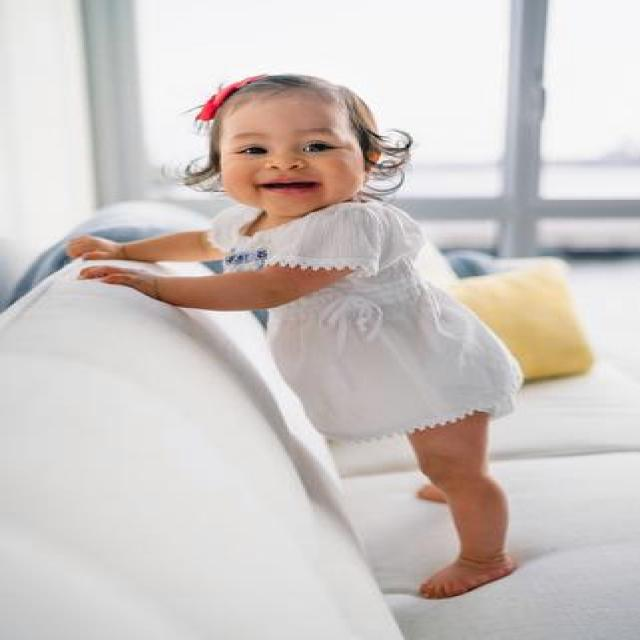child: (58, 60, 548, 605)
